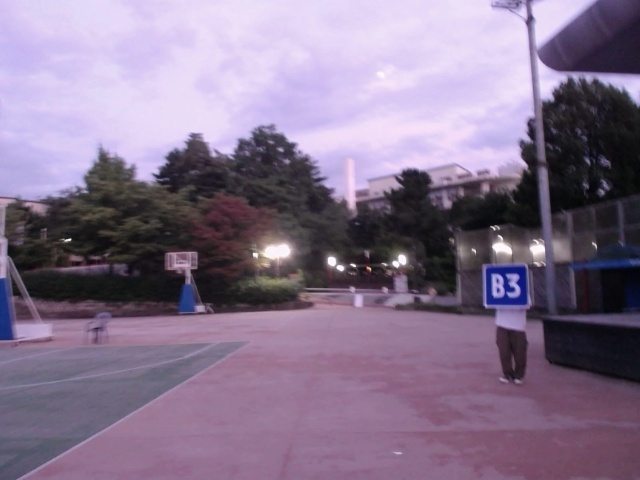delivery_b3: (482, 263, 530, 308)
